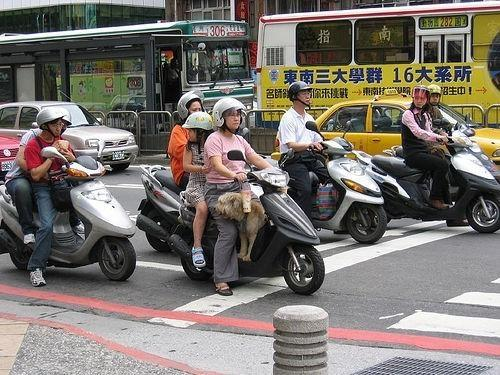bus: (250, 1, 500, 128), (2, 19, 258, 132)
car: (271, 88, 499, 167), (0, 102, 137, 175), (0, 127, 22, 178)
motorcycle: (3, 140, 136, 280), (356, 129, 500, 234), (227, 149, 327, 300), (301, 114, 389, 244), (134, 163, 182, 254)
